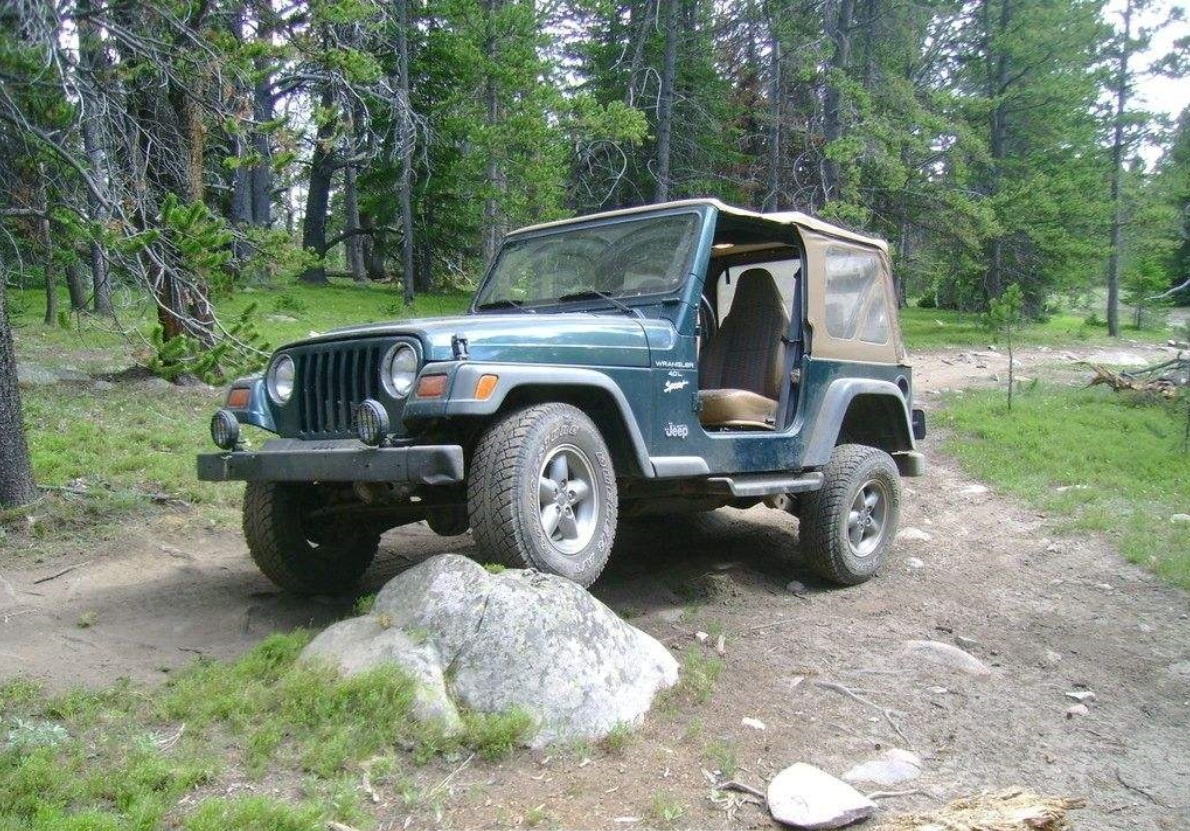jeep: (198, 201, 923, 602)
